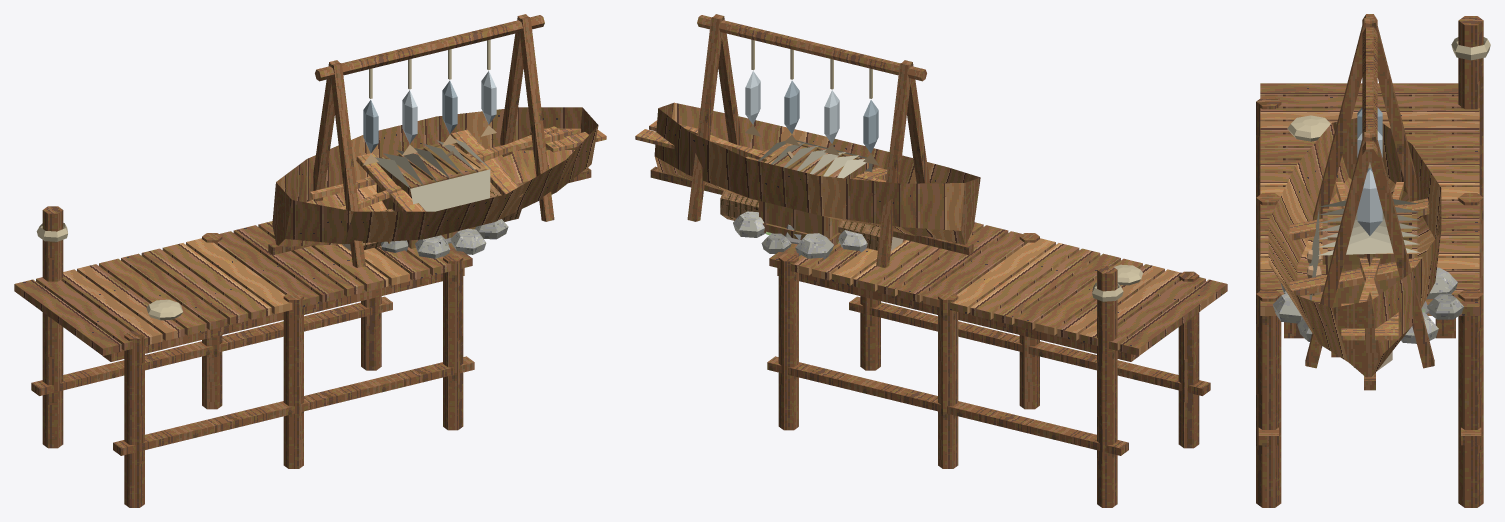
The model's file is props.glb.
The picture shows the model from 3 angles, left to right: view 1: azimuth 30°, elevation 25°; view 2: azimuth 150°, elevation 25°; view 3: azimuth 270°, elevation 25°; orthographic projection. The views are drawn at different scales.
Parts seen in each view (by area): view 1: hollow-jetty_Deck, rowboat-beached_Hull, drying-rack_Frame, net-crate_Crate, fire-ring_Stones; view 2: hollow-jetty_Deck, rowboat-beached_Hull, drying-rack_Frame, net-crate_Crate, fire-ring_Stones, log-step_Log; view 3: hollow-jetty_Deck, rowboat-beached_Hull, drying-rack_Frame, net-crate_Crate, fire-ring_Stones.
Part boxes in pixels (box(x1,y1,x2,y2)): hollow-jetty_Deck: box(14, 206, 474, 507); rowboat-beached_Hull: box(268, 107, 606, 255); drying-rack_Frame: box(313, 14, 554, 267); net-crate_Crate: box(375, 139, 490, 248); fire-ring_Stones: box(381, 219, 508, 258); hollow-jetty_Deck: box(767, 222, 1227, 507); rowboat-beached_Hull: box(635, 102, 980, 255); drying-rack_Frame: box(687, 14, 929, 267); net-crate_Crate: box(758, 140, 872, 246); fire-ring_Stones: box(733, 211, 867, 259); log-step_Log: box(720, 191, 903, 250); hollow-jetty_Deck: box(1256, 16, 1490, 507); rowboat-beached_Hull: box(1268, 118, 1441, 390); drying-rack_Frame: box(1305, 14, 1434, 368); net-crate_Crate: box(1307, 199, 1419, 307); fire-ring_Stones: box(1273, 267, 1463, 343).
Size of what is drawn, in the model's own units: 4.55 by 2.86 by 1.39.
Materials: 50 (15 with a texture image).
